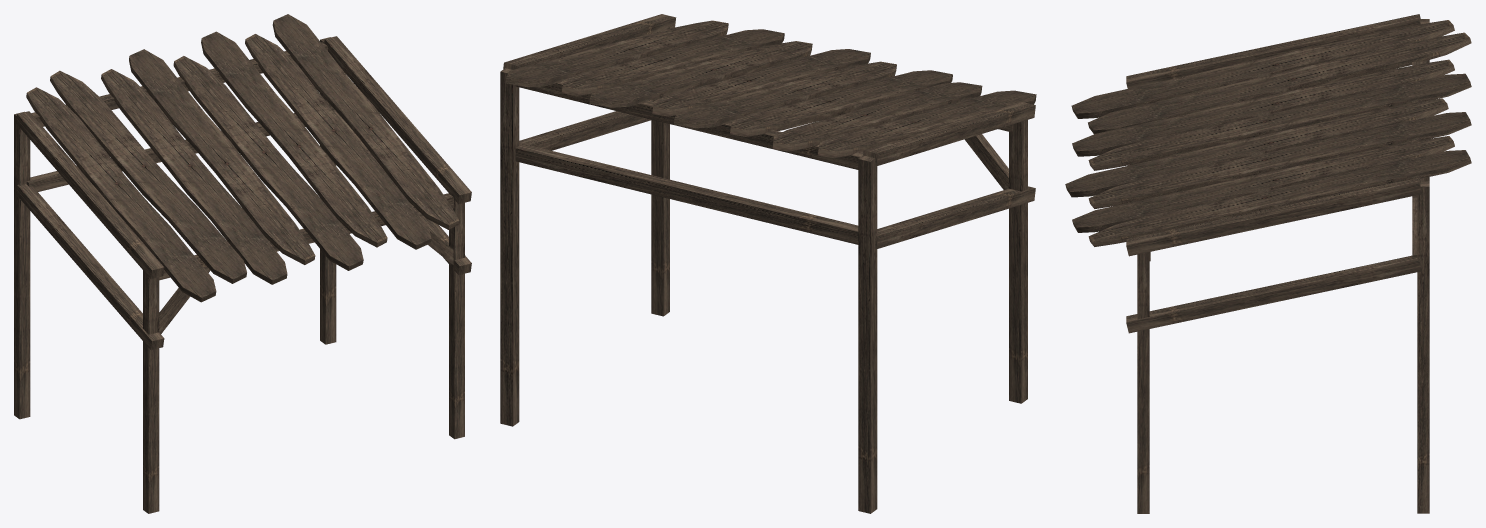
File: f1_wroof.fbx
The picture shows the model from 3 angles, left to right: view 1: azimuth 30°, elevation 25°; view 2: azimuth 150°, elevation 25°; view 3: azimuth 270°, elevation 25°; orthographic projection. The views are drawn at different scales.
Parts seen in each view (by area): view 1: Mesh Object; view 2: Mesh Object; view 3: Mesh Object.
Part boxes in pixels (box(x1,y1,x2,y2)): Mesh Object: box(14, 14, 471, 513); Mesh Object: box(500, 14, 1036, 513); Mesh Object: box(1065, 14, 1471, 513).
Size of the model in its own units: 1.93 by 1.83 by 1.96.
